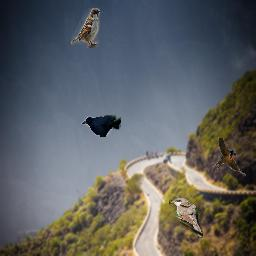Crow: (81, 115, 121, 137)
Cuckoo: (169, 198, 203, 238)
Sparrow: (71, 8, 100, 48)
Swallow: (212, 138, 246, 178)
